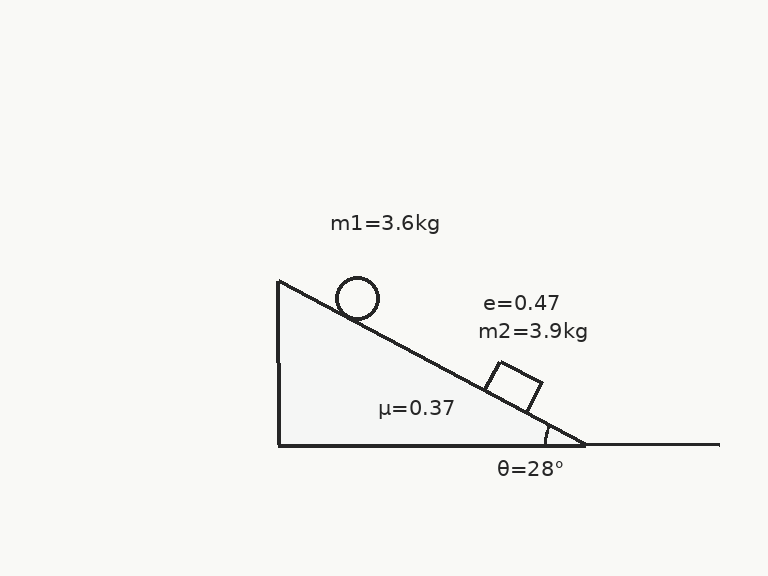ball: (333, 274, 381, 322)
block: (482, 358, 543, 414)
ramp: (276, 279, 587, 446)
